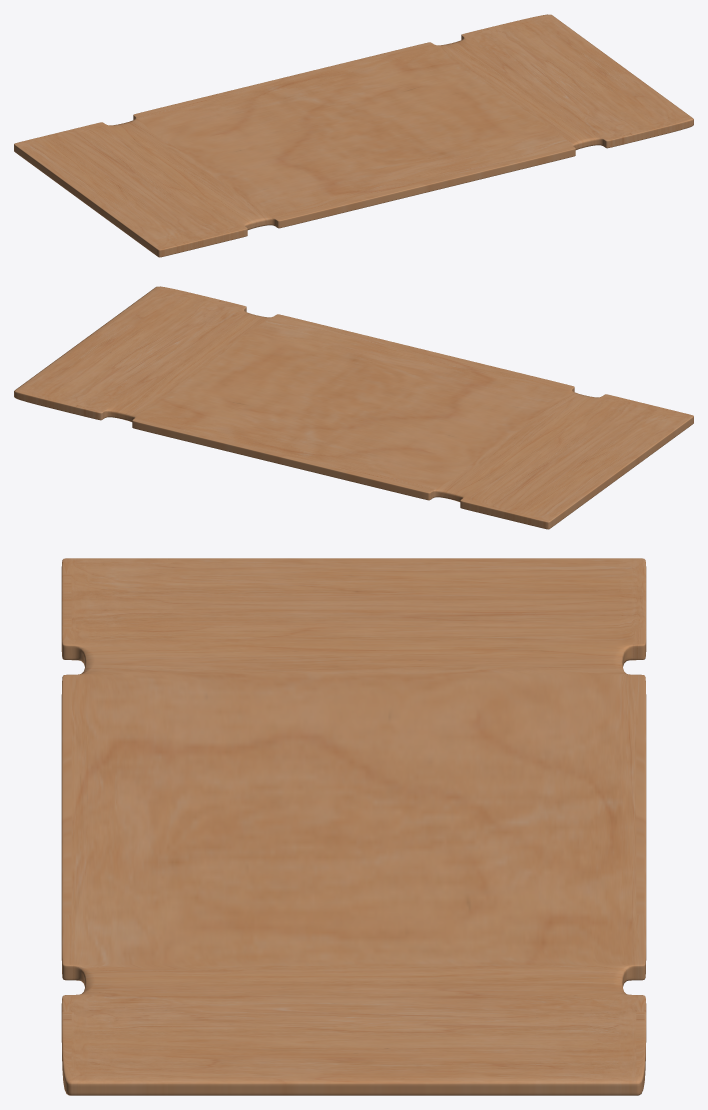
Rendered from trapezium-plank.fbx.
3 views of the same model, one above another, from view 1: azimuth 30°, elevation 25°; view 2: azimuth 150°, elevation 25°; view 3: azimuth 270°, elevation 25° (orthographic). The views are drawn at different scales.
Parts seen in each view (by area): view 1: Trapezium plank; view 2: Trapezium plank; view 3: Trapezium plank.
Boxes of the visible parts, x1=… form: Trapezium plank: x1=14, y1=14, x2=693, y2=257; Trapezium plank: x1=14, y1=286, x2=693, y2=529; Trapezium plank: x1=61, y1=558, x2=646, y2=1095.
Size of the model in its own units: 0.66 by 0.0193 by 1.4.
